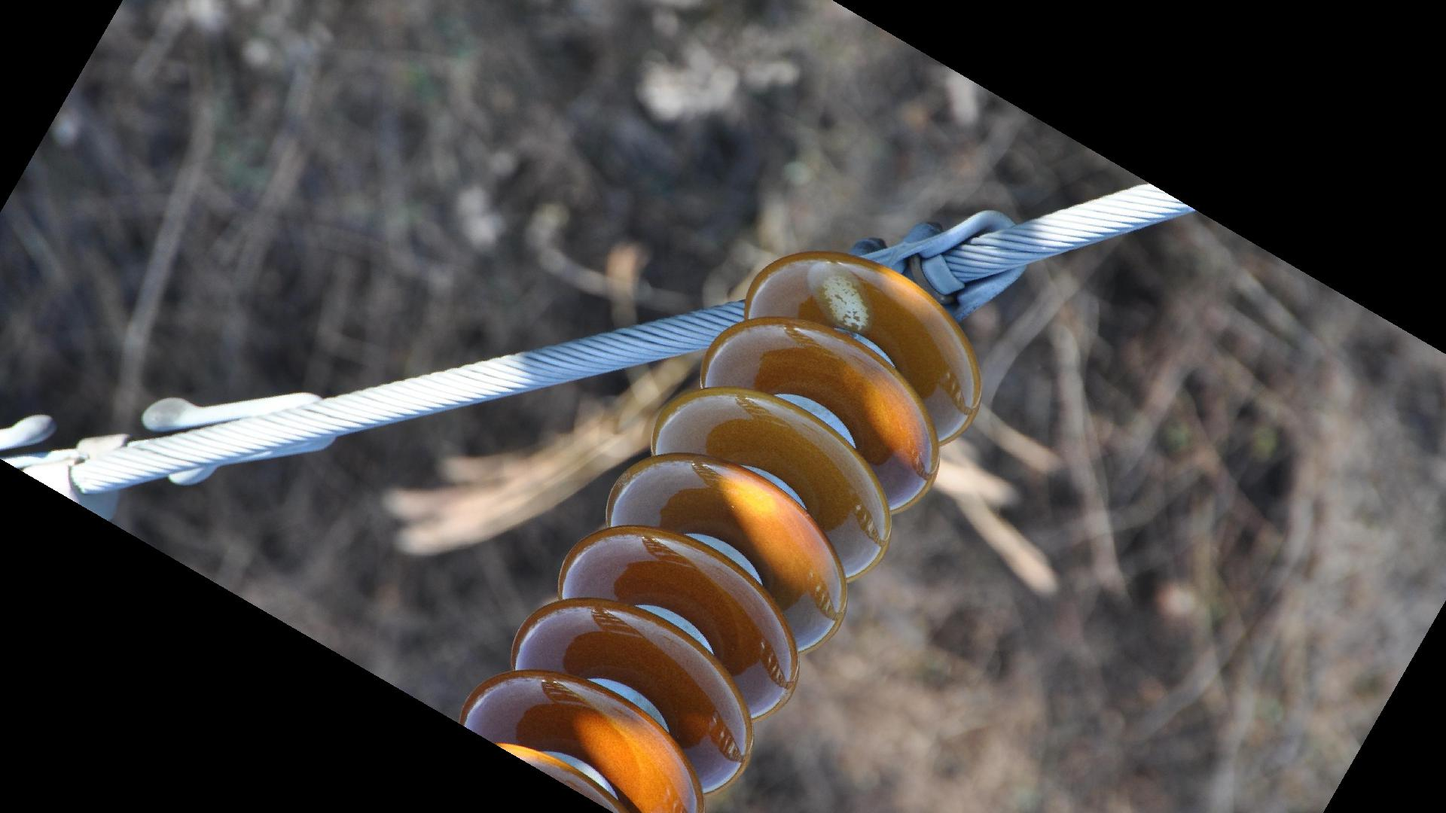insulator: (454, 244, 990, 813)
insulator_flashover: (813, 268, 872, 335)
